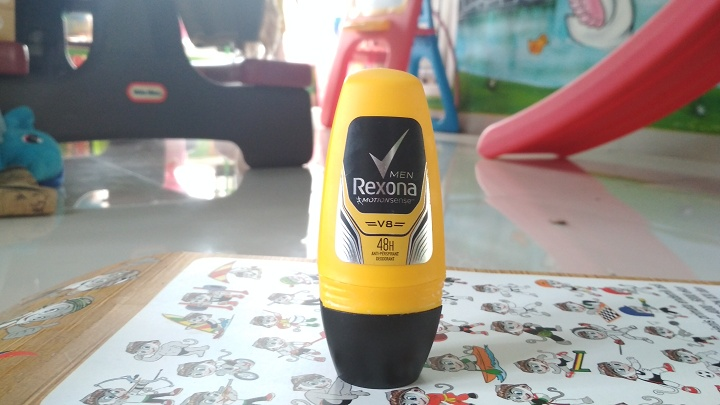rexona: (314, 67, 445, 385), (323, 67, 445, 385)
